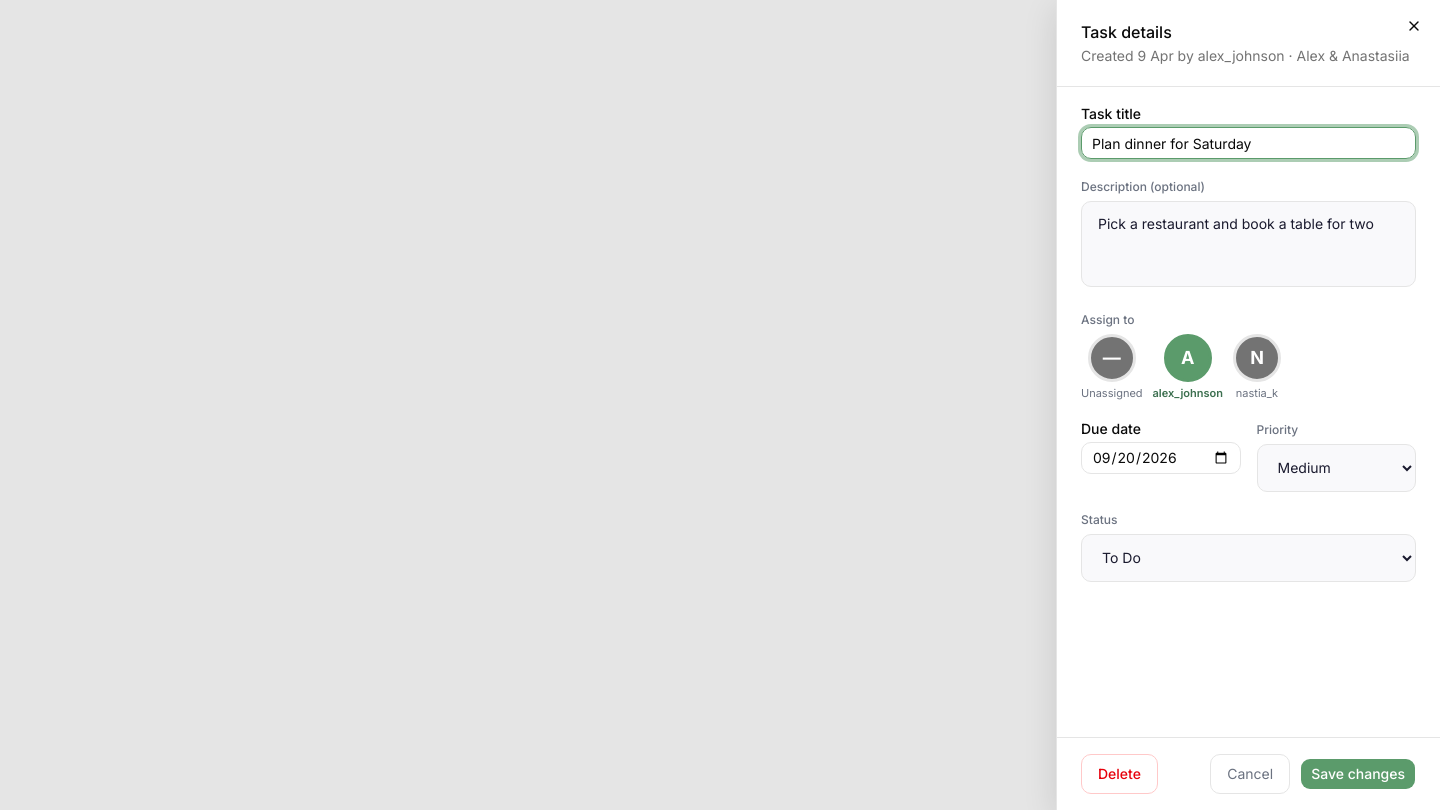
TaskDrawer — edit mode › shows an inline error and keeps the confirm dialog open when delete fails
Click the button "Delete" at (1119, 774), box [1081,754,1158,794]
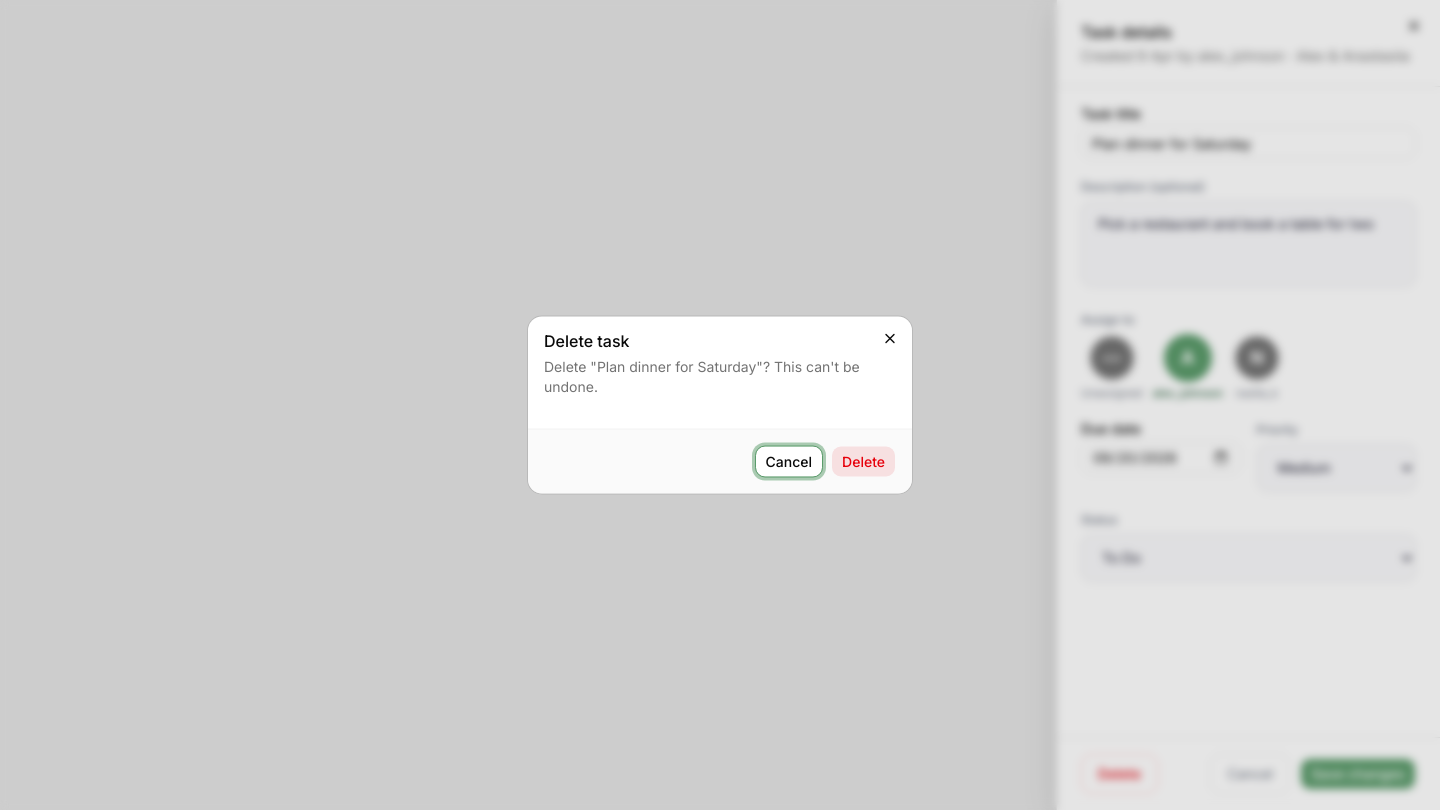
Click the button "Delete" at (864, 462), box [831,446,896,478]
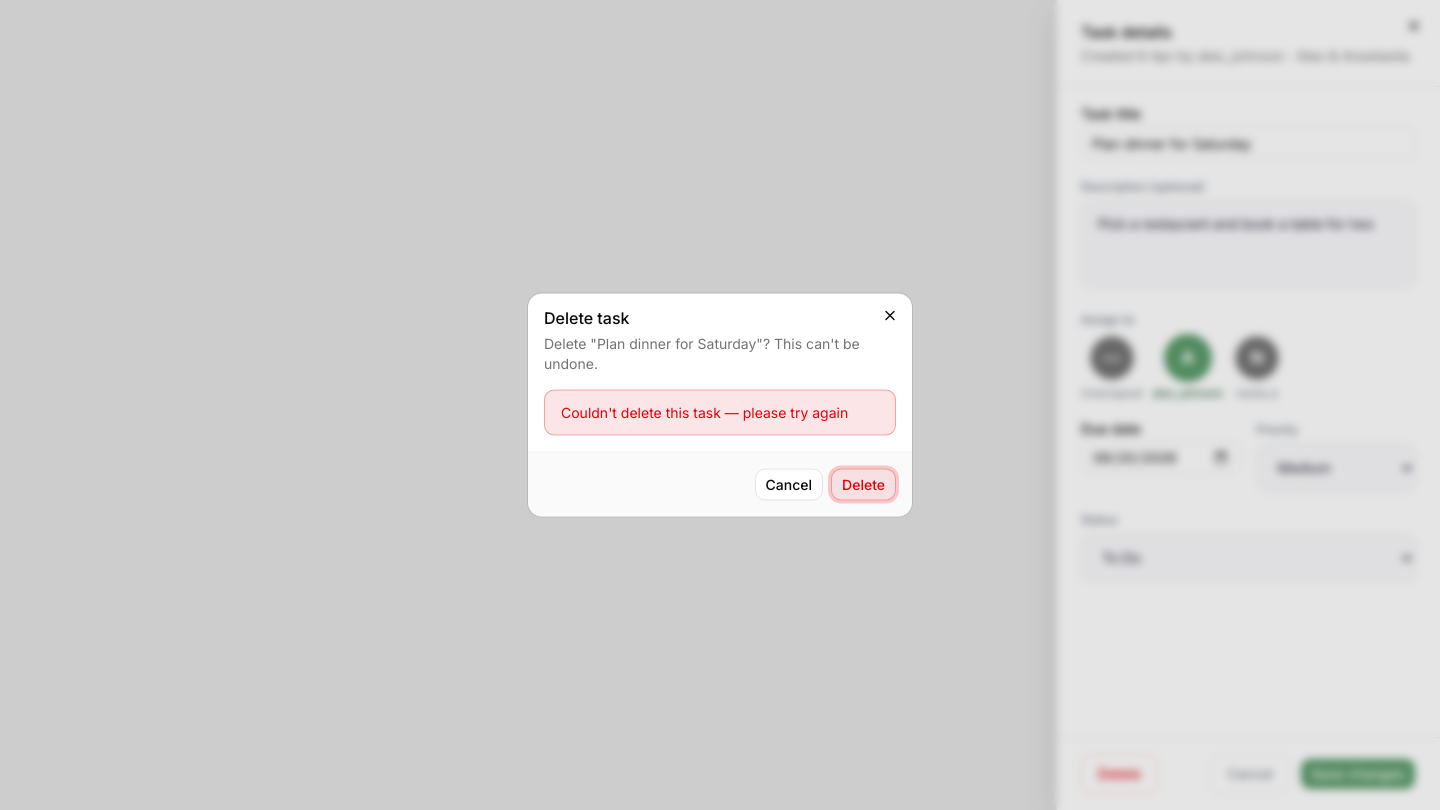
Check: the text "Couldn't delete this task — please try again" is shown, box [561,402,879,422]
